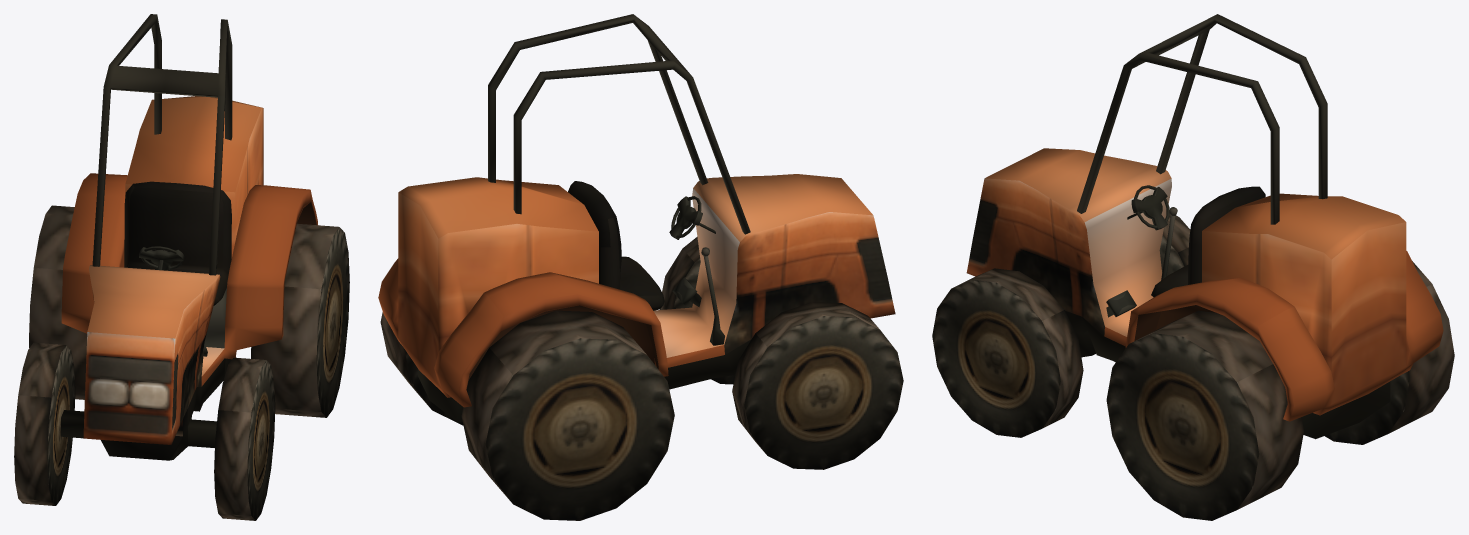
The picture shows the model from 3 angles, left to right: view 1: azimuth 30°, elevation 25°; view 2: azimuth 150°, elevation 25°; view 3: azimuth 270°, elevation 25°; orthographic projection. The views are drawn at different scales.
Parts seen in each view (by area): view 1: Tracktorxd_atlas_granja_0, Cube186_atlas_granja_0, Cube187_atlas_granja_0, timon002_atlas_granja_0; view 2: Tracktorxd_atlas_granja_0, Cube186_atlas_granja_0, Cube187_atlas_granja_0, Cube188_atlas_granja_0, timon002_atlas_granja_0; view 3: Tracktorxd_atlas_granja_0, Cube186_atlas_granja_0, Cube187_atlas_granja_0, timon002_atlas_granja_0, Cube188_atlas_granja_0.
Boxes of the visible parts, x1=… form: Tracktorxd_atlas_granja_0: x1=61, y1=14, x2=317, y2=460; Cube186_atlas_granja_0: x1=14, y1=205, x2=349, y2=520; Cube187_atlas_granja_0: x1=124, y1=181, x2=231, y2=305; timon002_atlas_granja_0: x1=139, y1=246, x2=184, y2=270; Tracktorxd_atlas_granja_0: x1=378, y1=14, x2=895, y2=422; Cube186_atlas_granja_0: x1=380, y1=237, x2=903, y2=520; Cube187_atlas_granja_0: x1=568, y1=181, x2=664, y2=310; Cube188_atlas_granja_0: x1=672, y1=247, x2=724, y2=345; timon002_atlas_granja_0: x1=669, y1=196, x2=715, y2=239; Tracktorxd_atlas_granja_0: x1=966, y1=14, x2=1443, y2=439; Cube186_atlas_granja_0: x1=932, y1=214, x2=1454, y2=520; Cube187_atlas_granja_0: x1=1151, y1=186, x2=1265, y2=297; timon002_atlas_granja_0: x1=1127, y1=185, x2=1169, y2=230; Cube188_atlas_granja_0: x1=1106, y1=207, x2=1177, y2=317.
Size of the model in its own units: 4.31 by 3.78 by 4.49.
1 material, 1 textured.
